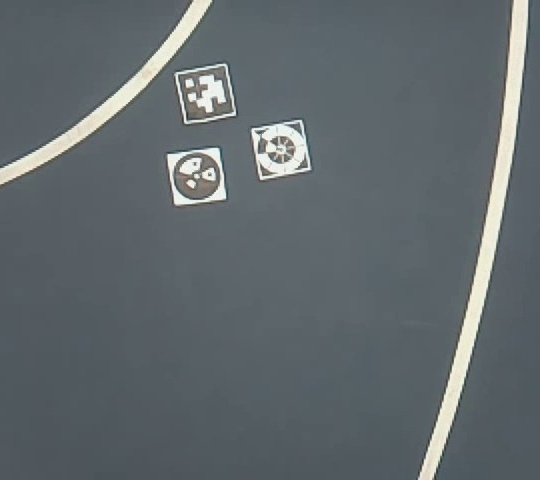landing-zone: (247, 115, 314, 181)
